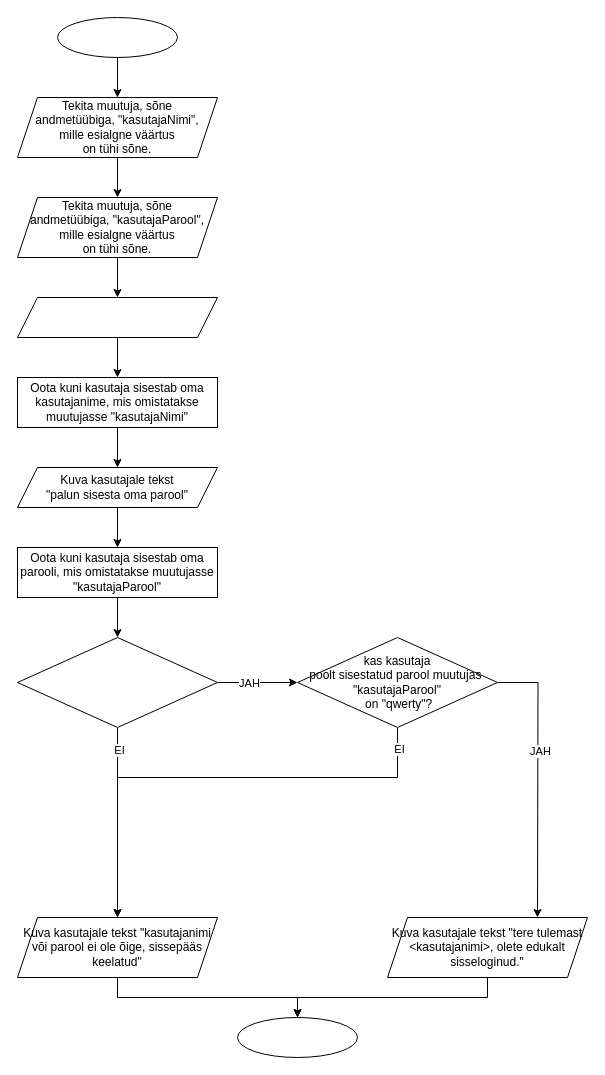
Image size: 605x1075. Some labels were removed from this diagram. Each missing label, with the centre of its shape:
Algus: the point at 117,37
kas kasutaja poolt sisestatud kasutaja nimi muutujas "kasutajaNimi" on "user1"?: the point at 117,682
Kuva kasutajale tekst "palun sisesta oma kasutajanimi": the point at 117,317
Lõpp: the point at 297,1037
